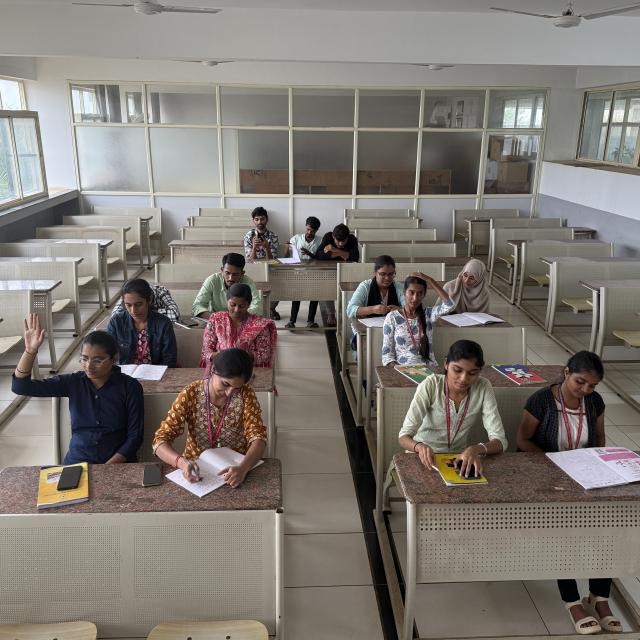Hand Rising: (6, 313, 141, 459)
Reading: (523, 346, 628, 468), (100, 274, 172, 378)
Sleeping: (116, 271, 186, 321)
Using Phone: (204, 282, 276, 365), (246, 202, 282, 262)
Writing: (160, 354, 274, 491), (194, 251, 266, 325), (346, 257, 409, 326)
